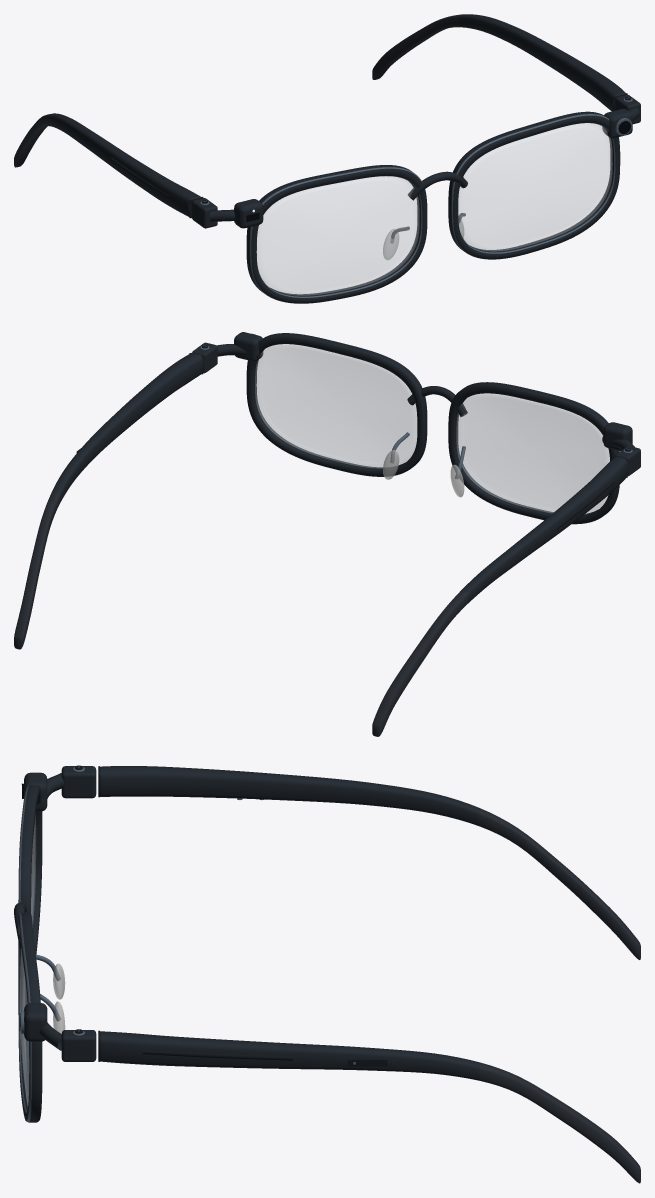
The model's file is tip-01.glb.
3 renders of one model, top to bottom at view 1: azimuth 30°, elevation 25°; view 2: azimuth 150°, elevation 25°; view 3: azimuth 270°, elevation 25°, orthographic. The views are drawn at different scales.
Parts seen in each view (by area): view 1: Left · clear waveguide lens, Right · clear waveguide lens, Left · sculpted titanium lens rim, Right · sculpted titanium lens rim, Right · tapered titanium temple, Left · tapered titanium temple, Left · sensor endpiece, Arched titanium nose bridge, Left · three-piece hinge body, Right · optical sensor endpiece; view 2: Right · clear waveguide lens, Left · clear waveguide lens, Left · tapered titanium temple, Right · tapered titanium temple, Right · sculpted titanium lens rim, Left · sculpted titanium lens rim, Right · optical sensor endpiece, Left · sensor endpiece; view 3: Left · tapered titanium temple, Right · tapered titanium temple, Right · sculpted titanium lens rim, Left · sculpted titanium lens rim, Left · three-piece hinge body, Right · three-piece hinge body, Right · optical sensor endpiece, Right · inlay dark recess, Right · clear waveguide lens.
Boxes of the visible parts, bbox=[...] form: Left · clear waveguide lens: bbox=[257, 176, 419, 295]; Right · clear waveguide lens: bbox=[458, 123, 612, 251]; Left · sculpted titanium lens rim: bbox=[246, 165, 427, 303]; Right · sculpted titanium lens rim: bbox=[448, 111, 620, 259]; Right · tapered titanium temple: bbox=[372, 14, 625, 111]; Left · tapered titanium temple: bbox=[14, 113, 201, 218]; Left · sensor endpiece: bbox=[234, 199, 263, 228]; Arched titanium nose bridge: bbox=[408, 171, 467, 200]; Left · three-piece hinge body: bbox=[192, 198, 217, 228]; Right · optical sensor endpiece: bbox=[603, 109, 632, 138]; Right · clear waveguide lens: bbox=[255, 344, 416, 468]; Left · clear waveguide lens: bbox=[456, 393, 609, 514]; Left · tapered titanium temple: bbox=[372, 456, 628, 736]; Right · tapered titanium temple: bbox=[14, 352, 203, 649]; Right · sculpted titanium lens rim: bbox=[246, 333, 427, 476]; Left · sculpted titanium lens rim: bbox=[448, 382, 619, 524]; Right · optical sensor endpiece: bbox=[234, 332, 263, 361]; Left · sensor endpiece: bbox=[603, 422, 632, 450]; Left · tapered titanium temple: bbox=[98, 766, 640, 959]; Right · tapered titanium temple: bbox=[98, 1031, 640, 1183]; Right · sculpted titanium lens rim: bbox=[18, 913, 42, 1122]; Left · sculpted titanium lens rim: bbox=[18, 785, 42, 954]; Left · three-piece hinge body: bbox=[61, 766, 96, 798]; Right · three-piece hinge body: bbox=[61, 1030, 96, 1061]; Right · optical sensor endpiece: bbox=[24, 1003, 47, 1041]; Right · inlay dark recess: bbox=[142, 1050, 292, 1060]; Right · clear waveguide lens: bbox=[20, 949, 28, 1105].
Bounding box in the file's own units: 0.15 × 0.048 × 0.1422.
